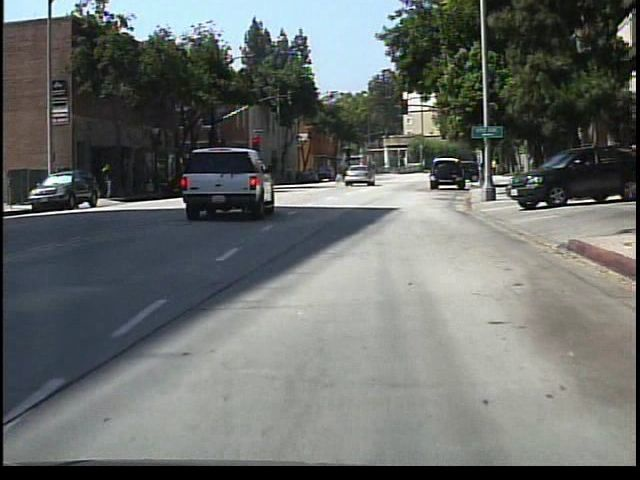person: (100, 160, 120, 201), (487, 154, 501, 180), (334, 164, 347, 187)
